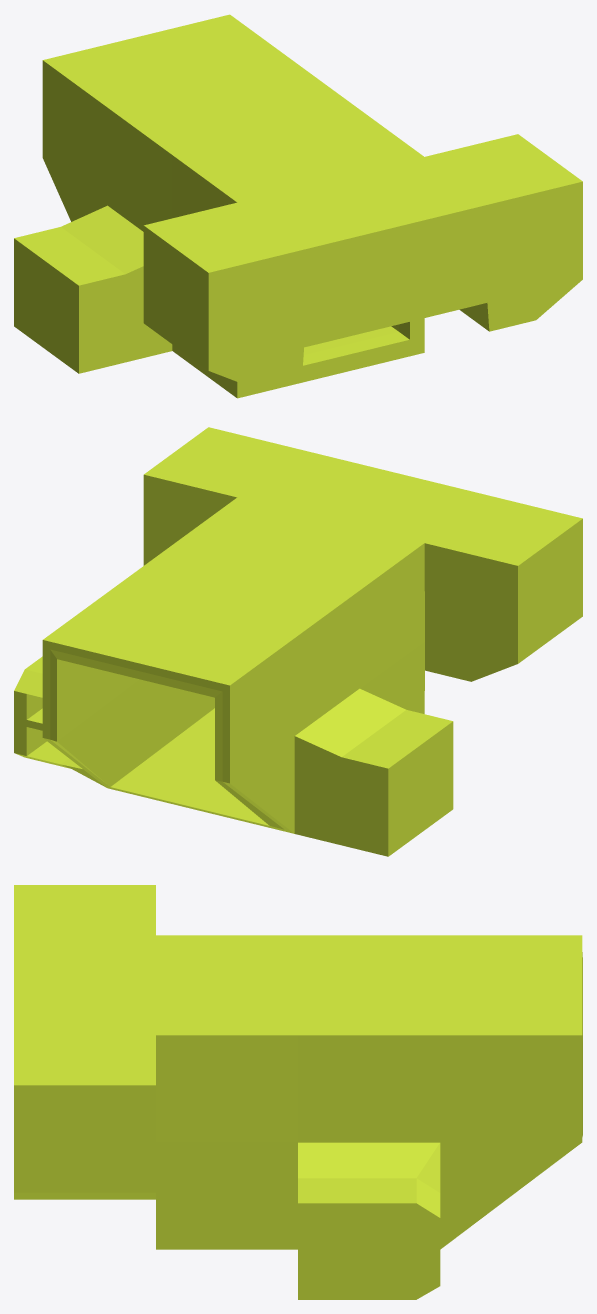
File: interceptor.1.glb
3 renders of one model, top to bottom at view 1: azimuth 30°, elevation 25°; view 2: azimuth 150°, elevation 25°; view 3: azimuth 270°, elevation 25°, orthographic. The views are drawn at different scales.
Parts seen in each view (by area): view 1: 2 × 1 × 1.002; view 2: 2 × 1 × 1.002; view 3: 2 × 1 × 1.002.
Boxes of the visible parts, <box> form: 2 × 1 × 1.002: <box>14,14,582,398</box>; 2 × 1 × 1.002: <box>14,427,582,856</box>; 2 × 1 × 1.002: <box>14,885,582,1299</box>.
Bounding box in the file's own units: 4 × 2 × 4.81.
